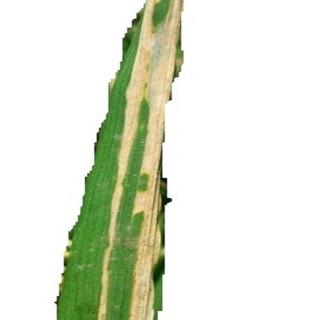Hawar-Daun: (131, 4, 184, 313), (112, 15, 149, 320)
